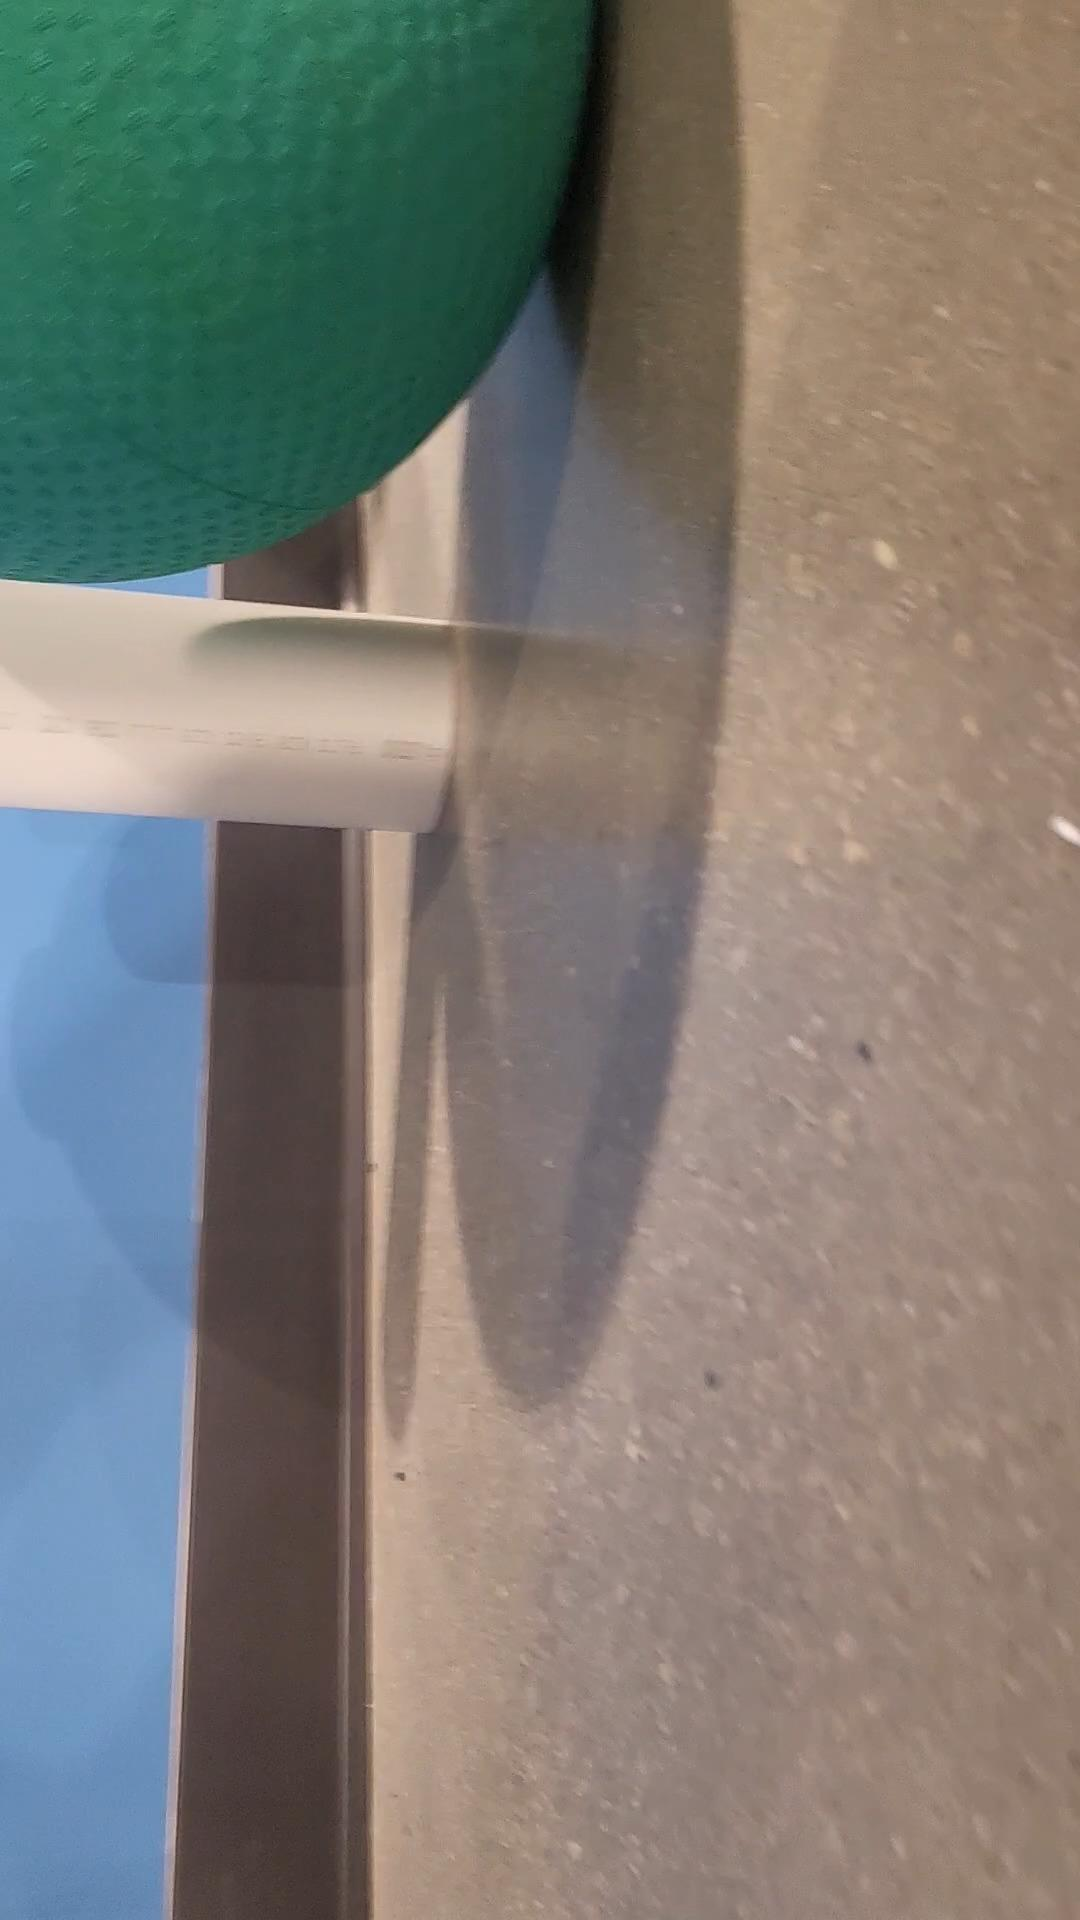algae: (0, 0, 600, 593)
coral: (0, 574, 487, 851)
